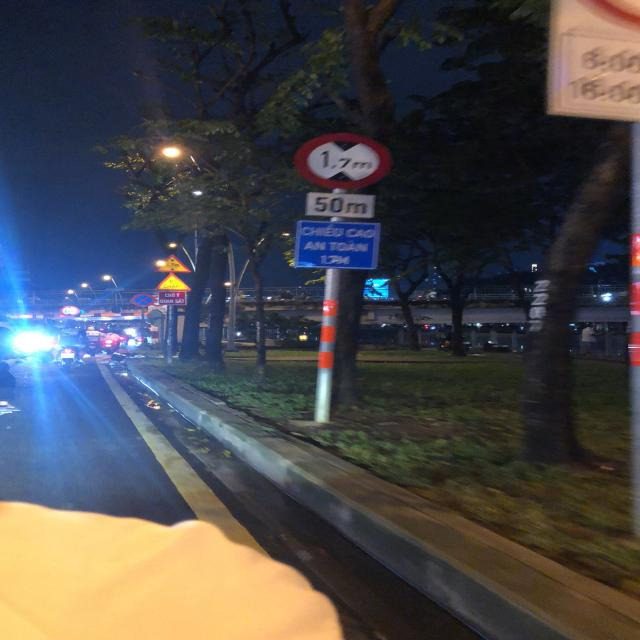Bien bao cam dung xe va do xe: (127, 290, 161, 310)
Bien bao chieu cao tinh khong thuc te: (152, 254, 194, 274)
Bien bao di cham: (155, 272, 191, 291)
Bien bao han che chieu cao: (290, 132, 400, 188)
